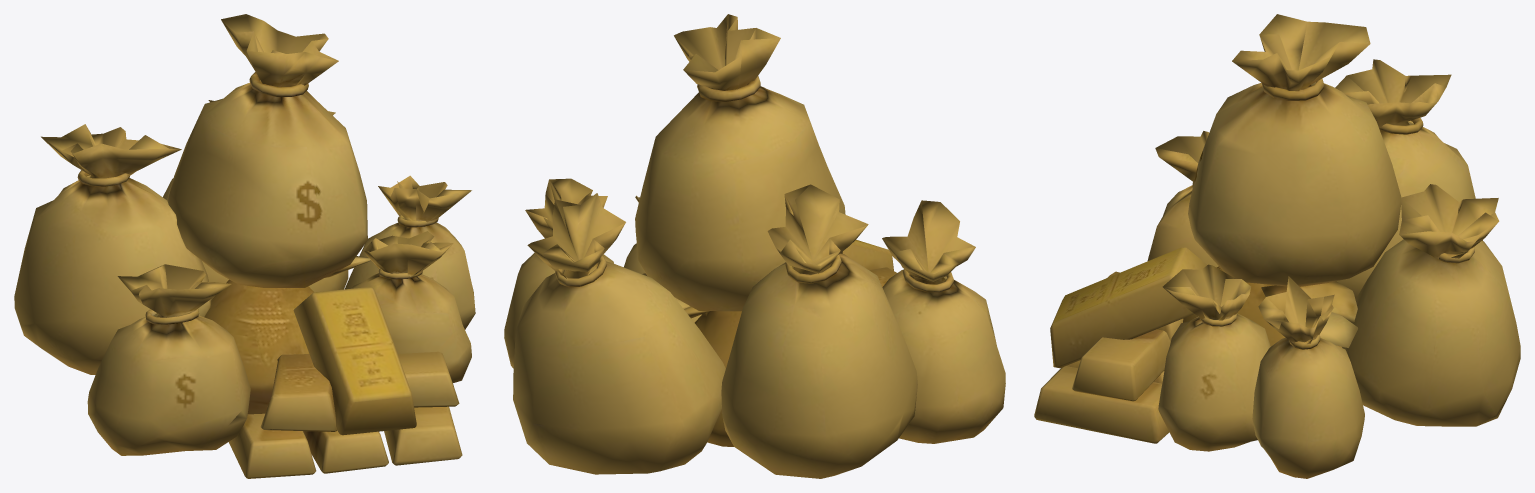
File: Hub_LootPile.glb
3 renders of one model, left to right at view 1: azimuth 30°, elevation 25°; view 2: azimuth 150°, elevation 25°; view 3: azimuth 270°, elevation 25°, orthographic. The views are drawn at different scales.
Parts seen in each view (by area): view 1: tripo_node_122d2ef0-1975-4b09-9d32-c62d7d3f57de; view 2: tripo_node_122d2ef0-1975-4b09-9d32-c62d7d3f57de; view 3: tripo_node_122d2ef0-1975-4b09-9d32-c62d7d3f57de.
Part boxes in pixels (x1,y1,x2,y2): tripo_node_122d2ef0-1975-4b09-9d32-c62d7d3f57de: (14,14,475,478); tripo_node_122d2ef0-1975-4b09-9d32-c62d7d3f57de: (504,14,1005,478); tripo_node_122d2ef0-1975-4b09-9d32-c62d7d3f57de: (1034,14,1520,478).
Size of the model in its own units: 0.9971 by 0.8222 by 1.
Materials: 1 (1 with a texture image).
